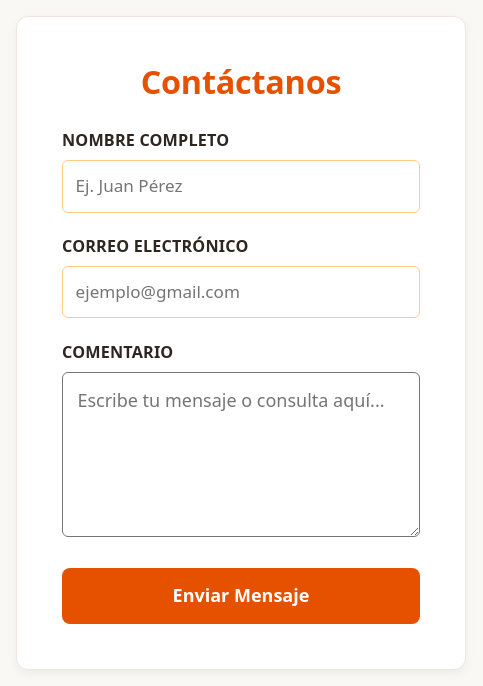
Test: Vista de Contacto › Debe permitir llenar el formulario de contacto y mostrar mensaje de éxito al enviar
The image size is (483, 686).
# Simular la interacción escribiendo datos válidos
Type "Juan Pérez" into the field labelled "NOMBRE COMPLETO".
click(241, 186); type("Juan Pérez")  # box [62,160,420,213]
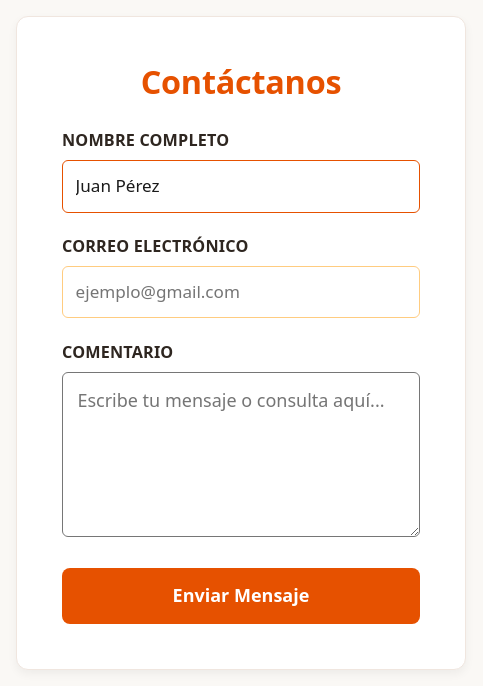
Type "juan.perez@gmail.com" into the field labelled "CORREO ELECTRÓNICO".
click(241, 292); type("juan.perez@gmail.com")  # box [62,266,420,318]
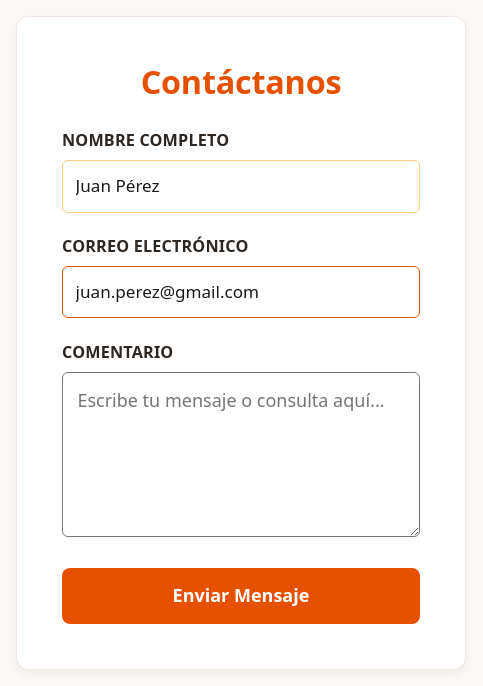
Type "Excelente servicio y muy buena comida." into the text box labelled "COMENTARIO".
click(241, 454); type("Excelente servicio y muy buena comida.")  # box [62,372,420,537]
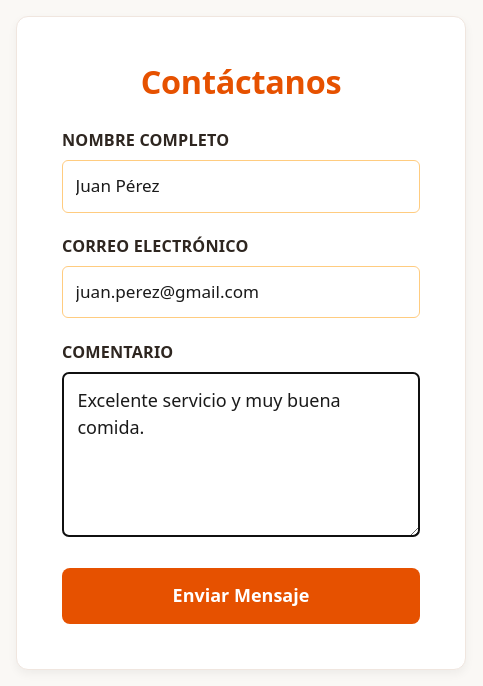
# Enviar el formulario
Click the button "Enviar Mensaje".
click(241, 596)  # box [62,568,420,624]
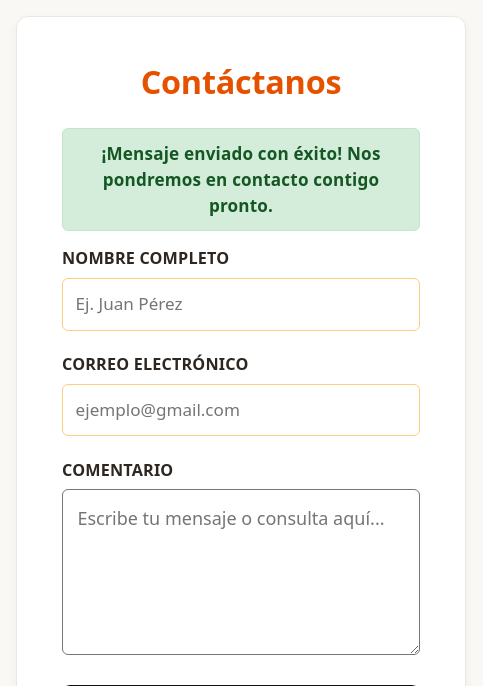
Expected: the text "¡Mensaje enviado con éxito!" is shown, [101,142,381,217]
